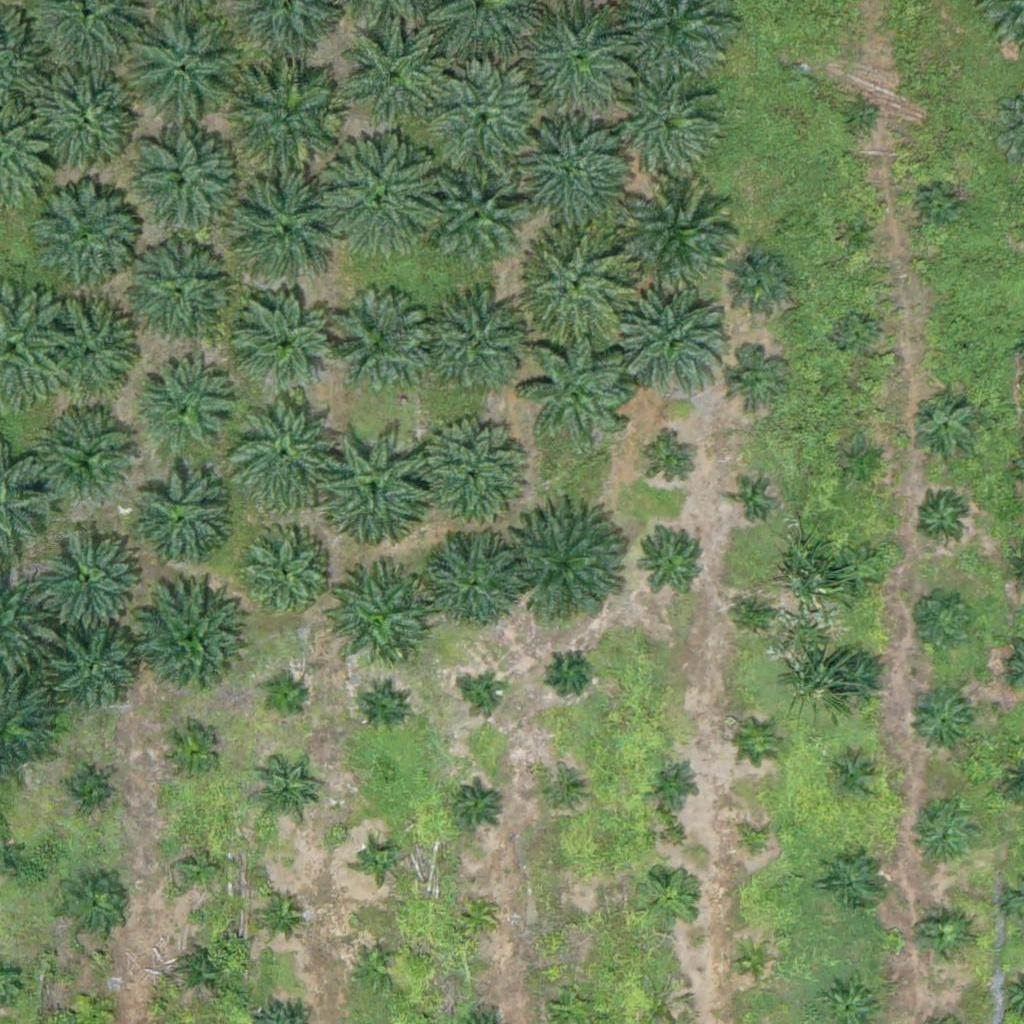Kelapa_Sawit: (22, 53, 147, 179), (18, 174, 143, 300), (120, 124, 245, 250), (120, 7, 245, 133), (226, 54, 351, 180), (225, 170, 350, 296), (421, 66, 546, 192), (508, 117, 633, 243), (516, 3, 641, 129), (620, 185, 745, 311), (314, 424, 439, 550), (222, 390, 347, 516), (321, 137, 446, 262), (510, 505, 635, 630), (131, 586, 244, 700), (522, 332, 635, 445), (411, 418, 524, 531), (32, 516, 144, 630), (619, 292, 731, 405), (523, 227, 635, 340), (320, 568, 432, 681), (346, 28, 446, 129), (620, 80, 720, 181), (421, 529, 521, 630), (427, 294, 527, 395), (326, 293, 426, 394), (236, 296, 336, 397), (235, 523, 335, 624), (124, 243, 224, 344), (136, 359, 236, 460), (38, 292, 138, 393), (128, 468, 228, 568), (41, 407, 141, 507), (50, 627, 138, 715), (431, 176, 518, 265), (902, 585, 977, 661), (634, 521, 709, 596), (911, 806, 974, 869), (252, 766, 315, 829), (158, 720, 221, 783), (824, 849, 887, 912), (825, 649, 888, 712), (721, 348, 784, 411), (731, 250, 794, 313), (169, 837, 232, 900), (910, 690, 972, 753), (62, 875, 124, 938), (911, 392, 973, 455), (639, 867, 701, 930), (829, 753, 879, 804), (179, 945, 229, 996), (648, 438, 698, 489), (836, 547, 886, 598), (255, 888, 305, 939), (59, 766, 109, 817), (918, 912, 968, 962), (359, 681, 409, 731), (453, 779, 503, 829), (918, 494, 968, 544), (649, 758, 699, 808), (352, 943, 402, 993), (260, 676, 310, 726), (743, 723, 781, 761), (550, 651, 588, 689), (836, 314, 874, 352), (840, 216, 878, 254), (841, 97, 879, 135), (843, 440, 881, 478), (736, 824, 774, 862), (734, 943, 772, 981), (458, 897, 496, 935), (361, 842, 399, 880), (467, 677, 504, 715), (922, 190, 959, 228), (544, 775, 581, 813), (556, 904, 593, 942), (734, 485, 771, 522), (738, 595, 775, 632), (953, 340, 978, 365)
